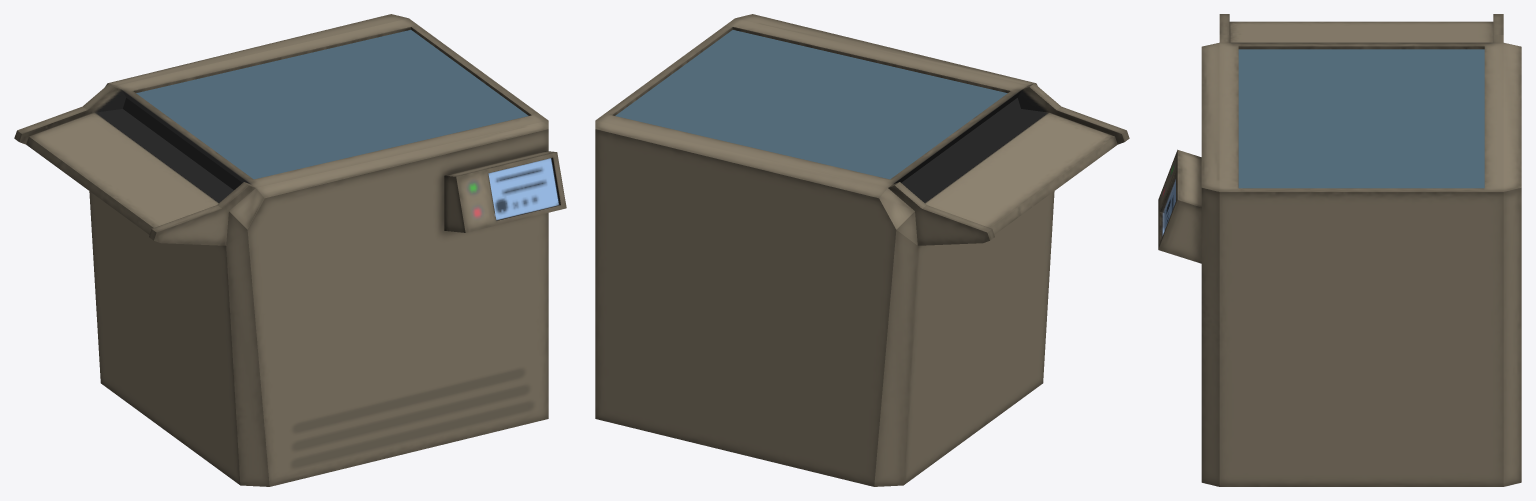
Rendered from printer.fbx.
3 renders of one model, left to right at view 1: azimuth 30°, elevation 25°; view 2: azimuth 150°, elevation 25°; view 3: azimuth 270°, elevation 25°, orthographic.
Visible parts, largest first — view 1: Cube.042, Cube.044; view 2: Cube.042, Cube.044; view 3: Cube.042, Cube.044.
Boxes of the visible parts, <box> form: Cube.042: <box>14,14,566,486</box>; Cube.044: <box>136,30,528,179</box>; Cube.042: <box>595,14,1129,486</box>; Cube.044: <box>615,30,1007,179</box>; Cube.042: <box>1158,14,1521,486</box>; Cube.044: <box>1238,49,1484,188</box>.
Size of the model in its own units: 141 by 102 by 110.
Materials: 2 (2 with a texture image).
